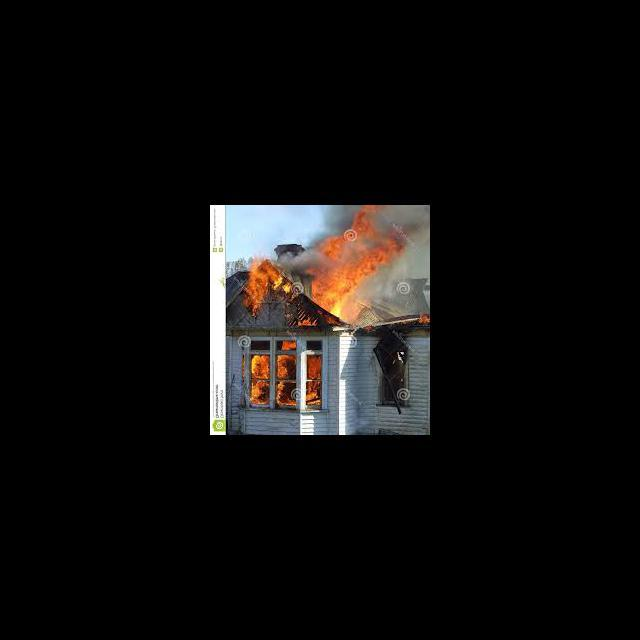Fire: (311, 206, 415, 317), (242, 260, 291, 316), (306, 354, 322, 404), (278, 354, 298, 379), (250, 381, 270, 404), (251, 356, 271, 378), (278, 382, 296, 406), (318, 310, 340, 324), (296, 316, 316, 328), (278, 340, 298, 351)
Smoke: (343, 206, 429, 319), (292, 250, 331, 270)
